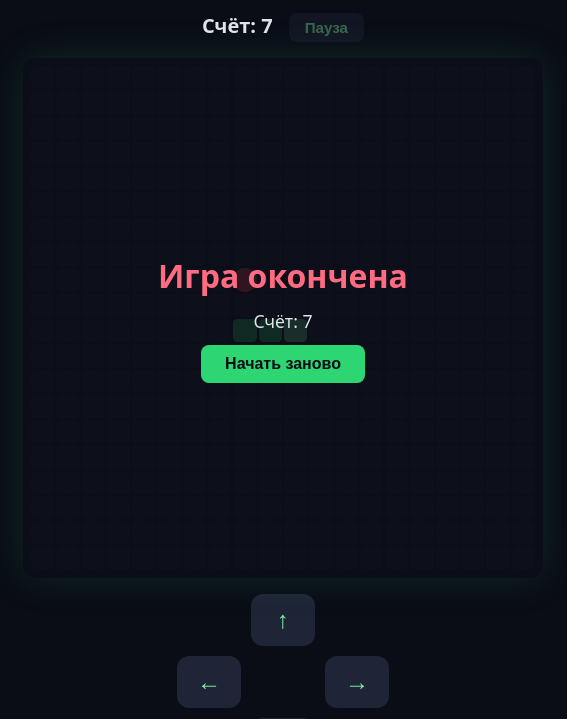
Test: GameBoard › показывает Game Over и перезапускает игру по кнопке
The image size is (567, 719).
Expected: the message shows "Игра окончена", x1=158 y1=254 x2=408 y2=296
Click the button "Начать заново" at point(283, 364), box x1=201 y1=344 x2=365 y2=382
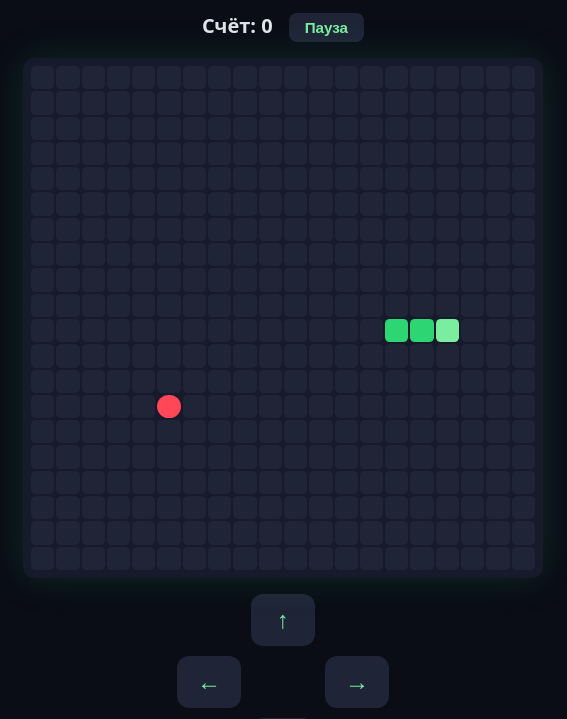
Expected: the message "Игра окончена Счёт: 7 Начать заново" is gone
